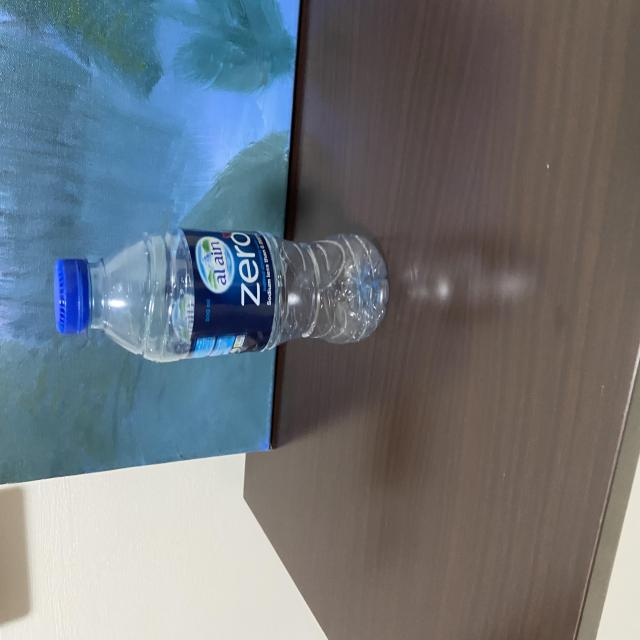plastic: (50, 227, 394, 361)
